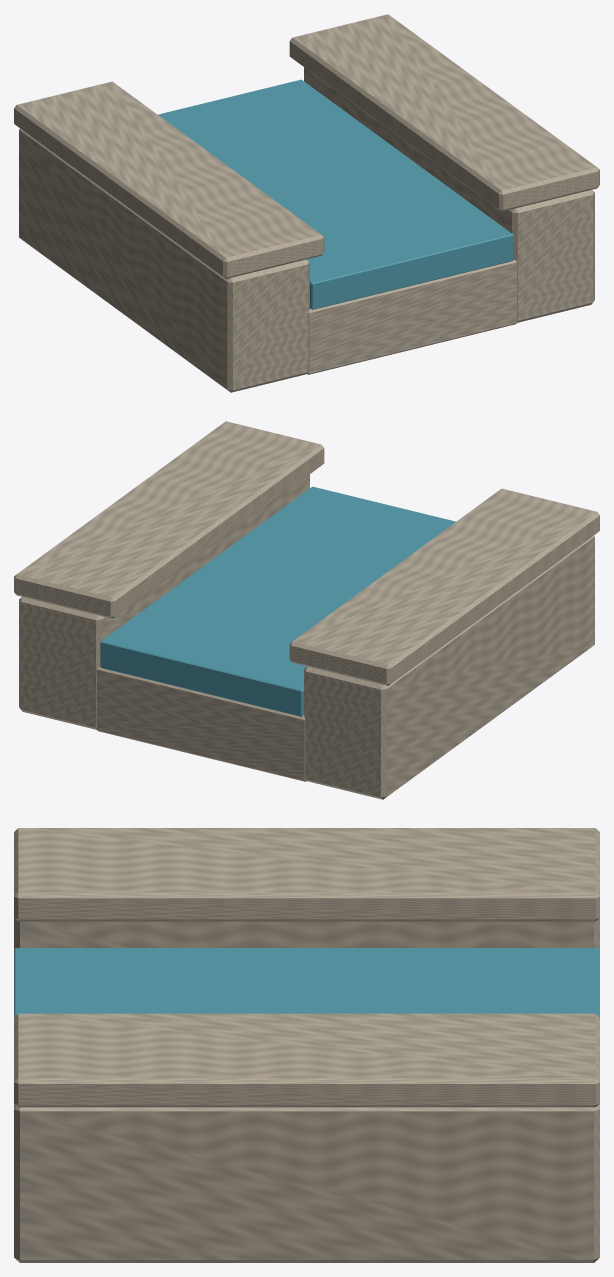
File: fantasy-mmo-city-and-townsfolk-canal-water-tile-e734a5d8__32724.glb
3 views of the same model, one above another, from view 1: azimuth 30°, elevation 25°; view 2: azimuth 150°, elevation 25°; view 3: azimuth 270°, elevation 25° (orthographic). The views are drawn at different scales.
Visible parts, largest first — view 1: canal-water-tile; view 2: canal-water-tile; view 3: canal-water-tile.
Part boxes in pixels (x1=…): canal-water-tile: x1=14, y1=14, x2=599, y2=392; canal-water-tile: x1=14, y1=421, x2=599, y2=799; canal-water-tile: x1=14, y1=828, x2=599, y2=1262.
Size of the model in its own units: 4.1 by 1.42 by 4.
2 materials, 1 textured.
